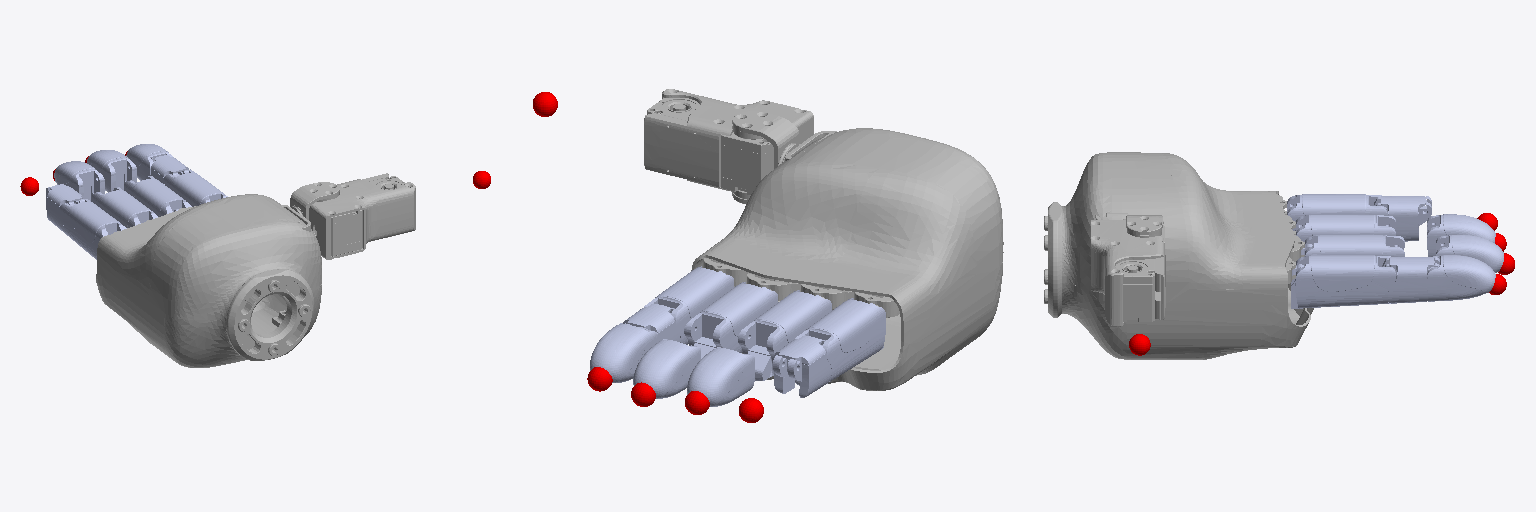
The robot description file, URDF, robot "Dex5-URDF-R":
<robot name="Dex5-URDF-R">
  <!-- Local deviations from the official unitreerobotics/unitree_ros Dex5-1 URDF:
       1. (left)  joint "Link_41L" renamed to "Roll_41L" - upstream collided with the
          link of the same name and broke the Roll_x1 convention used by every other finger.
       2. (right) link "base_link00" renamed to "base_link00R" for L/R symmetry.
       3. Added fixed *_tip frames on each distal link (offsets measured from the STL
          meshes). Retargeting optimizes a named link's frame ORIGIN, and each Link_x4
          origin sits on its own joint axis, i.e. at the last knuckle rather than the
          fingertip. Mirrors the convention already used by the Dex3-1 URDF. -->
  <mujoco>
    <compiler meshdir="meshes" discardvisual="false"/>
  </mujoco>
  <link name="base_link00R">
    <inertial>
      <origin xyz="-0.023027 0.027982 -0.017178" rpy="0 0 0"/>
      <mass value="0.685702"/>
      <inertia ixx="7.78969326E-04" ixy="-3.3932999E-05" ixz="-8.537493E-06" iyy="6.11017846E-04" iyz="5.5013726E-05" izz="1.061484896E-03"/>
    </inertial>
    <visual>
      <origin xyz="0 0 0" rpy="0 0 0"/>
      <geometry>
        <mesh filename="meshes/base_link00.STL"/>
      </geometry>
      <material name="">
        <color rgba="0.752941176470588 0.752941176470588 0.752941176470588 0.7"/>
      </material>
    </visual>
    <collision>
      <origin xyz="0 0 0" rpy="0 0 0"/>
      <geometry>
        <mesh filename="meshes/base_link00.STL"/>
      </geometry>
    </collision>
  </link>
  <link name="Link_11R">
    <inertial>
      <origin xyz="-0.008418 0.000123 -0.003247" rpy="0 0 0"/>
      <mass value="0.02363"/>
      <inertia ixx="2.641049E-06" ixy="1.9442E-08" ixz="1.8132E-07" iyy="3.607134E-06" iyz="5.837E-09" izz="3.860781E-06"/>
    </inertial>
    <visual>
      <origin xyz="0 0 0" rpy="0 0 0"/>
      <geometry>
        <mesh filename="meshes/Link_11R.STL"/>
      </geometry>
      <material name="">
        <color rgba="0.752941176470588 0.752941176470588 0.752941176470588 1"/>
      </material>
    </visual>
    <collision>
      <origin xyz="0 0 0" rpy="0 0 0"/>
      <geometry>
        <mesh filename="meshes/Link_11R.STL"/>
      </geometry>
    </collision>
  </link>
  <joint name="Yaw_11R" type="revolute">
    <origin xyz="0 0 0.0143500000000242" rpy="0 0 0"/>
    <parent link="base_link00R"/>
    <child link="Link_11R"/>
    <axis xyz="0 0 1"/>
    <limit lower="-0.5867" upper="0.6803" effort="0.93" velocity="4.18"/>
  </joint>
  <link name="Link_12R">
    <inertial>
      <origin xyz="0.014668 0.000013 -0.004099" rpy="0 0 0"/>
      <mass value="0.015809"/>
      <inertia ixx="3.066476E-06" ixy="-4.497E-9" ixz="2.22721E-7" iyy="4.049699E-06" iyz="1.404E-9" izz="3.627081E-06"/>
    </inertial>
    <visual>
      <origin xyz="0 0 0" rpy="0 0 0"/>
      <geometry>
        <mesh filename="meshes/Link_12R.STL"/>
      </geometry>
      <material name="">
        <color rgba="0.752941176470588 0.752941176470588 0.752941176470588 1"/>
      </material>
    </visual>
    <collision>
      <origin xyz="0 0 0" rpy="0 0 0"/>
      <geometry>
        <mesh filename="meshes/Link_12R.STL"/>
      </geometry>
    </collision>
  </link>
  <joint name="Roll_12R" type="revolute">
    <origin xyz="-1.06041019916053E-05 0 0" rpy="1.5707963267949 0 0"/>
    <parent link="Link_11R"/>
    <child link="Link_12R"/>
    <axis xyz="0 0 1"/>
    <limit lower="0" upper="1.8151" effort="0.93" velocity="4.18"/>
  </joint>
  <link name="Link_13R">
    <inertial>
      <origin xyz="0.018557 -0.006933 0.000159" rpy="0 0 0"/>
      <mass value="0.06674"/>
      <inertia ixx="9.105565E-06" ixy="-1.948696E-06" ixz="2.9291E-08" iyy="2.2925394E-05" iyz="-0.816E-09" izz="2.3878954E-05"/>
    </inertial>
    <visual>
      <origin xyz="0 0 0" rpy="0 0 0"/>
      <geometry>
        <mesh filename="meshes/Link_13R.STL"/>
      </geometry>
      <material name="">
        <color rgba="0.752941176470588 0.752941176470588 0.752941176470588 1"/>
      </material>
    </visual>
    <collision>
      <origin xyz="0 0 0" rpy="0 0 0"/>
      <geometry>
        <mesh filename="meshes/Link_13R.STL"/>
      </geometry>
    </collision>
  </link>
  <joint name="Pitch_13R" type="revolute">
    <origin xyz="0.0335000000000025 0 -0.00599999999999658" rpy="-1.57079632688918 -1.55083872381532E-05 0"/>
    <parent link="Link_12R"/>
    <child link="Link_13R"/>
    <axis xyz="0 0 1"/>
    <limit lower="0" upper="1.765226" effort="0.93" velocity="4.18"/>
  </joint>
  <link name="Link_14R">
    <inertial>
      <origin xyz="0.028085 0.003322 0.000472" rpy="0 0 0"/>
      <mass value="0.020073"/>
      <inertia ixx="1.93782E-06" ixy="-1.69818E-07" ixz="1.24848E-07" iyy="6.083181E-06" iyz="2.0791E-08" izz="5.614839E-06"/>
    </inertial>
    <visual>
      <origin xyz="0 0 0" rpy="0 0 0"/>
      <geometry>
        <mesh filename="meshes/Link_14R.STL"/>
      </geometry>
      <material name="">
        <color rgba="0.752941176470588 0.752941176470588 0.752941176470588 1"/>
      </material>
    </visual>
    <collision>
      <origin xyz="0 0 0" rpy="0 0 0"/>
      <geometry>
        <mesh filename="meshes/Link_14R.STL"/>
      </geometry>
    </collision>
  </link>
  <joint name="Pitch_14R" type="revolute">
    <origin xyz="0.036609 -0.0053654 0" rpy="0 0 0"/>
    <parent link="Link_13R"/>
    <child link="Link_14R"/>
    <axis xyz="0 0 1"/>
    <limit lower="0" upper="1.6406" effort="0.93" velocity="4.18"/>
  </joint>
  <link name="Link_21R">
    <inertial>
      <origin xyz="0.007826 -0.000005 -0.004125" rpy="0 0 0"/>
      <mass value="0.004497"/>
      <inertia ixx="8.9889E-08" ixy="-4.9E-11" ixz="3.7079E-08" iyy="1.37514E-07" iyz="-1.18E-10" izz="9.6125E-08"/>
    </inertial>
    <visual>
      <origin xyz="0 0 0" rpy="0 0 0"/>
      <geometry>
        <mesh filename="meshes/Link_21R.STL"/>
      </geometry>
      <material name="">
        <color rgba="0.792156862745098 0.819607843137255 0.933333333333333 1"/>
      </material>
    </visual>
    <collision>
      <origin xyz="0 0 0" rpy="0 0 0"/>
      <geometry>
        <mesh filename="meshes/Link_21R.STL"/>
      </geometry>
    </collision>
  </link>
  <joint name="Roll_21R" type="revolute">
    <origin xyz="0.01 0.073143 -0.0034702" rpy="0 0 1.5708"/>
    <parent link="base_link00R"/>
    <child link="Link_21R"/>
    <axis xyz="0 0 1"/>
    <limit lower="-0.38397" upper="0.38397" effort="0" velocity="0.76794"/>
  </joint>
  <link name="Link_22R">
    <inertial>
      <origin xyz="0.021242 -0.005936 0.000059" rpy="0 0 0"/>
      <mass value="0.017982"/>
      <inertia ixx="1.206794E-06" ixy="-1.30843E-07" ixz="-2.335E-09" iyy="4.081109E-06" iyz="1.219E-09" izz="4.370124E-06"/>
    </inertial>
    <visual>
      <origin xyz="0 0 0" rpy="0 0 0"/>
      <geometry>
        <mesh filename="meshes/Link_22R.STL"/>
      </geometry>
      <material name="">
        <color rgba="0.792156862745098 0.819607843137255 0.933333333333333 1"/>
      </material>
    </visual>
    <collision>
      <origin xyz="0 0 0" rpy="0 0 0"/>
      <geometry>
        <mesh filename="meshes/Link_22R.STL"/>
      </geometry>
    </collision>
  </link>
  <joint name="Pitch_22R" type="revolute">
    <origin xyz="0.00419999999999998 0 0" rpy="1.5707963267949 0 0"/>
    <parent link="Link_21R"/>
    <child link="Link_22R"/>
    <axis xyz="0 0 1"/>
    <limit lower="0" upper="1.5707963" effort="0" velocity="3.1415926"/>
  </joint>
  <link name="Link_23R">
    <inertial>
      <origin xyz="0.011393 -0.005777 0.000001" rpy="0 0 0"/>
      <mass value="0.012776"/>
      <inertia ixx="6.38115E-07" ixy="5.5121E-08" ixz="-4.97E-10" iyy="6.31505E-07" iyz="-1.43E-10" izz="8.2943E-07"/>
    </inertial>
    <visual>
      <origin xyz="0 0 0" rpy="0 0 0"/>
      <geometry>
        <mesh filename="meshes/Link_23R.STL"/>
      </geometry>
      <material name="">
        <color rgba="0.792156862745098 0.819607843137255 0.933333333333333 1"/>
      </material>
    </visual>
    <collision>
      <origin xyz="0 0 0" rpy="0 0 0"/>
      <geometry>
        <mesh filename="meshes/Link_23R.STL"/>
      </geometry>
    </collision>
  </link>
  <joint name="Pitch_23R" type="revolute">
    <origin xyz="0.039999999999998 0 0" rpy="0 0 0"/>
    <parent link="Link_22R"/>
    <child link="Link_23R"/>
    <axis xyz="0 0 1"/>
    <limit lower="0" upper="1.684242699" effort="0" velocity="3.368485398"/>
  </joint>
  <link name="Link_24R">
    <inertial>
      <origin xyz="0.009354 -0.004824 0.000072" rpy="0 0 0"/>
      <mass value="0.00639891165893413"/>
      <inertia ixx="4.9531E-07" ixy="-1.09285E-07" ixz="8.84E-10" iyy="1.466772E-06" iyz="4.47E-10" izz="1.448234E-06"/>
    </inertial>
    <visual>
      <origin xyz="0 0 0" rpy="0 0 0"/>
      <geometry>
        <mesh filename="meshes/Link_24R.STL"/>
      </geometry>
      <material name="">
        <color rgba="0.792156862745098 0.819607843137255 0.933333333333333 1"/>
      </material>
    </visual>
    <collision>
      <origin xyz="0 0 0" rpy="0 0 0"/>
      <geometry>
        <mesh filename="meshes/Link_24R.STL"/>
      </geometry>
    </collision>
  </link>
  <joint name="Pitch_24R" type="revolute">
    <origin xyz="0.0209845918681 0.000804303505750905 0" rpy="0 0 0"/>
    <parent link="Link_23R"/>
    <child link="Link_24R"/>
    <axis xyz="0 0 1"/>
    <limit lower="0" upper="1.396263378" effort="0" velocity="2.792526756"/>
  </joint>
  <link name="Link_31R">
    <inertial>
      <origin xyz="0.007826 -0.000005 -0.004125" rpy="0 0 0"/>
      <mass value="0.004497"/>
      <inertia ixx="8.9889E-08" ixy="-4.9E-11" ixz="3.7079E-08" iyy="1.37514E-07" iyz="-1.18E-10" izz="9.6125E-08"/>
    </inertial>
    <visual>
      <origin xyz="0 0 0" rpy="0 0 0"/>
      <geometry>
        <mesh filename="meshes/Link_31R.STL"/>
      </geometry>
      <material name="">
        <color rgba="0.792156862745098 0.819607843137255 0.933333333333333 1"/>
      </material>
    </visual>
    <collision>
      <origin xyz="0 0 0" rpy="0 0 0"/>
      <geometry>
        <mesh filename="meshes/Link_31R.STL"/>
      </geometry>
    </collision>
  </link>
  <joint name="Roll_31R" type="revolute">
    <origin xyz="-0.012 0.077143 -0.0034702" rpy="0 0 1.5708"/>
    <parent link="base_link00R"/>
    <child link="Link_31R"/>
    <axis xyz="0 0 1"/>
    <limit lower="-0.38397" upper="0.38397" effort="0" velocity="0.76794"/>
  </joint>
  <link name="Link_32R">
    <inertial>
      <origin xyz="0.021242 -0.005936 0.000059" rpy="0 0 0"/>
      <mass value="0.017982"/>
      <inertia ixx="1.206794E-06" ixy="-1.30843E-07" ixz="-2.335E-09" iyy="4.081109E-06" iyz="1.219E-09" izz="4.370124E-06"/>
    </inertial>
    <visual>
      <origin xyz="0 0 0" rpy="0 0 0"/>
      <geometry>
        <mesh filename="meshes/Link_32R.STL"/>
      </geometry>
      <material name="">
        <color rgba="0.792156862745098 0.819607843137255 0.933333333333333 1"/>
      </material>
    </visual>
    <collision>
      <origin xyz="0 0 0" rpy="0 0 0"/>
      <geometry>
        <mesh filename="meshes/Link_32R.STL"/>
      </geometry>
    </collision>
  </link>
  <joint name="Pitch_32R" type="revolute">
    <origin xyz="0.00419999999999998 0 0" rpy="1.5707963267949 0 0"/>
    <parent link="Link_31R"/>
    <child link="Link_32R"/>
    <axis xyz="0 0 1"/>
    <limit lower="0" upper="1.5707963" effort="0" velocity="3.1415926"/>
  </joint>
  <link name="Link_33R">
    <inertial>
      <origin xyz="0.011393 -0.005777 0.000001" rpy="0 0 0"/>
      <mass value="0.012776"/>
      <inertia ixx="6.38115E-07" ixy="5.5121E-08" ixz="-4.97E-10" iyy="6.31505E-07" iyz="-1.43E-10" izz="8.2943E-07"/>
    </inertial>
    <visual>
      <origin xyz="0 0 0" rpy="0 0 0"/>
      <geometry>
        <mesh filename="meshes/Link_33R.STL"/>
      </geometry>
      <material name="">
        <color rgba="0.792156862745098 0.819607843137255 0.933333333333333 1"/>
      </material>
    </visual>
    <collision>
      <origin xyz="0 0 0" rpy="0 0 0"/>
      <geometry>
        <mesh filename="meshes/Link_33R.STL"/>
      </geometry>
    </collision>
  </link>
  <joint name="Pitch_33R" type="revolute">
    <origin xyz="0.039999999999998 0 0" rpy="0 0 0"/>
    <parent link="Link_32R"/>
    <child link="Link_33R"/>
    <axis xyz="0 0 1"/>
    <limit lower="0" upper="1.684242699" effort="0" velocity="3.368485398"/>
  </joint>
  <link name="Link_34R">
    <inertial>
      <origin xyz="0.009354 -0.004824 0.000072" rpy="0 0 0"/>
      <mass value="0.00639891165893413"/>
      <inertia ixx="4.9531E-07" ixy="-1.09285E-07" ixz="8.84E-10" iyy="1.466772E-06" iyz="4.47E-10" izz="1.448234E-06"/>
    </inertial>
    <visual>
      <origin xyz="0 0 0" rpy="0 0 0"/>
      <geometry>
        <mesh filename="meshes/Link_34R.STL"/>
      </geometry>
      <material name="">
        <color rgba="0.792156862745098 0.819607843137255 0.933333333333333 1"/>
      </material>
    </visual>
    <collision>
      <origin xyz="0 0 0" rpy="0 0 0"/>
      <geometry>
        <mesh filename="meshes/Link_34R.STL"/>
      </geometry>
    </collision>
  </link>
  <joint name="Pitch_34R" type="revolute">
    <origin xyz="0.0209845918681 0.000804303505750906 0" rpy="0 0 0"/>
    <parent link="Link_33R"/>
    <child link="Link_34R"/>
    <axis xyz="0 0 1"/>
    <limit lower="0" upper="1.396263378" effort="0" velocity="2.792526756"/>
  </joint>
  <link name="Link_41R">
    <inertial>
      <origin xyz="0.007826 -0.000005 -0.004125" rpy="0 0 0"/>
      <mass value="0.004497"/>
      <inertia ixx="8.9889E-08" ixy="-4.9E-11" ixz="3.7079E-08" iyy="1.37514E-07" iyz="-1.18E-10" izz="9.6125E-08"/>
    </inertial>
    <visual>
      <origin xyz="0 0 0" rpy="0 0 0"/>
      <geometry>
        <mesh filename="meshes/Link_41R.STL"/>
      </geometry>
      <material name="">
        <color rgba="0.792156862745098 0.819607843137255 0.933333333333333 1"/>
      </material>
    </visual>
    <collision>
      <origin xyz="0 0 0" rpy="0 0 0"/>
      <geometry>
        <mesh filename="meshes/Link_41R.STL"/>
      </geometry>
    </collision>
  </link>
  <joint name="Roll_41R" type="revolute">
    <origin xyz="-0.034 0.073143 -0.0034702" rpy="0 0 1.5708"/>
    <parent link="base_link00R"/>
    <child link="Link_41R"/>
    <axis xyz="0 0 1"/>
    <limit lower="-0.38397" upper="0.38397" effort="0" velocity="0"/>
  </joint>
  <link name="Link_42R">
    <inertial>
      <origin xyz="0.021242 -0.005936 0.000059" rpy="0 0 0"/>
      <mass value="0.017982"/>
      <inertia ixx="1.206794E-06" ixy="-1.30843E-07" ixz="-2.335E-09" iyy="4.081109E-06" iyz="1.219E-09" izz="4.370124E-06"/>
    </inertial>
    <visual>
      <origin xyz="0 0 0" rpy="0 0 0"/>
      <geometry>
        <mesh filename="meshes/Link_42R.STL"/>
      </geometry>
      <material name="">
        <color rgba="0.792156862745098 0.819607843137255 0.933333333333333 1"/>
      </material>
    </visual>
    <collision>
      <origin xyz="0 0 0" rpy="0 0 0"/>
      <geometry>
        <mesh filename="meshes/Link_42R.STL"/>
      </geometry>
    </collision>
  </link>
  <joint name="Pitch_42R" type="revolute">
    <origin xyz="0.00419999999999998 0 0" rpy="1.5707963267949 0 0"/>
    <parent link="Link_41R"/>
    <child link="Link_42R"/>
    <axis xyz="0 0 1"/>
    <limit lower="0" upper="1.5708" effort="0" velocity="3.1415926"/>
  </joint>
  <link name="Link_43R">
    <inertial>
      <origin xyz="0.011393 -0.005777 0.000001" rpy="0 0 0"/>
      <mass value="0.012776"/>
      <inertia ixx="6.38115E-07" ixy="5.5121E-08" ixz="-4.97E-10" iyy="6.31505E-07" iyz="-1.43E-10" izz="8.2943E-07"/>
    </inertial>
    <visual>
      <origin xyz="0 0 0" rpy="0 0 0"/>
      <geometry>
        <mesh filename="meshes/Link_43R.STL"/>
      </geometry>
      <material name="">
        <color rgba="0.792156862745098 0.819607843137255 0.933333333333333 1"/>
      </material>
    </visual>
    <collision>
      <origin xyz="0 0 0" rpy="0 0 0"/>
      <geometry>
        <mesh filename="meshes/Link_43R.STL"/>
      </geometry>
    </collision>
  </link>
  <joint name="Pitch_43R" type="revolute">
    <origin xyz="0.039999999999998 0 0" rpy="0 0 0"/>
    <parent link="Link_42R"/>
    <child link="Link_43R"/>
    <axis xyz="0 0 1"/>
    <limit lower="0" upper="1.6842" effort="0" velocity="3.368485398"/>
  </joint>
  <link name="Link_44R">
    <inertial>
      <origin xyz="0.009354 -0.004824 0.000072" rpy="0 0 0"/>
      <mass value="0.00639891165893413"/>
      <inertia ixx="4.9531E-07" ixy="-1.09285E-07" ixz="8.84E-10" iyy="1.466772E-06" iyz="4.47E-10" izz="1.448234E-06"/>
    </inertial>
    <visual>
      <origin xyz="0 0 0" rpy="0 0 0"/>
      <geometry>
        <mesh filename="meshes/Link_44R.STL"/>
      </geometry>
      <material name="">
        <color rgba="0.792156862745098 0.819607843137255 0.933333333333333 1"/>
      </material>
    </visual>
    <collision>
      <origin xyz="0 0 0" rpy="0 0 0"/>
      <geometry>
        <mesh filename="meshes/Link_44R.STL"/>
      </geometry>
    </collision>
  </link>
  <joint name="Pitch_44R" type="revolute">
    <origin xyz="0.0209845918681 0.000804303505750905 0" rpy="0 0 0"/>
    <parent link="Link_43R"/>
    <child link="Link_44R"/>
    <axis xyz="0 0 1"/>
    <limit lower="0" upper="1.3963" effort="0" velocity="2.7925"/>
  </joint>
  <link name="Link_51R">
    <inertial>
      <origin xyz="0.007826 -0.000005 -0.004125" rpy="0 0 0"/>
      <mass value="0.004497"/>
      <inertia ixx="8.9889E-08" ixy="-4.9E-11" ixz="3.7079E-08" iyy="1.37514E-07" iyz="-1.18E-10" izz="9.6125E-08"/>
    </inertial>
    <visual>
      <origin xyz="0 0 0" rpy="0 0 0"/>
      <geometry>
        <mesh filename="meshes/Link_51R.STL"/>
      </geometry>
      <material name="">
        <color rgba="0.792156862745098 0.819607843137255 0.933333333333333 1"/>
      </material>
    </visual>
    <collision>
      <origin xyz="0 0 0" rpy="0 0 0"/>
      <geometry>
        <mesh filename="meshes/Link_51R.STL"/>
      </geometry>
    </collision>
  </link>
  <joint name="Roll_51R" type="revolute">
    <origin xyz="-0.0559999999999967 0.0691433586578331 -0.00347021644327154" rpy="0 0 1.57079632679486"/>
    <parent link="base_link00R"/>
    <child link="Link_51R"/>
    <axis xyz="0 0 1"/>
    <limit lower="-0.38397" upper="0.38397" effort="0" velocity="0"/>
  </joint>
  <link name="Link_52R">
    <inertial>
      <origin xyz="0.021242 -0.005936 0.000059" rpy="0 0 0"/>
      <mass value="0.017982"/>
      <inertia ixx="1.206794E-06" ixy="-1.30843E-07" ixz="-2.335E-09" iyy="4.081109E-06" iyz="1.219E-09" izz="4.370124E-06"/>
    </inertial>
    <visual>
      <origin xyz="0 0 0" rpy="0 0 0"/>
      <geometry>
        <mesh filename="meshes/Link_52R.STL"/>
      </geometry>
      <material name="">
        <color rgba="0.792156862745098 0.819607843137255 0.933333333333333 1"/>
      </material>
    </visual>
    <collision>
      <origin xyz="0 0 0" rpy="0 0 0"/>
      <geometry>
        <mesh filename="meshes/Link_52R.STL"/>
      </geometry>
    </collision>
  </link>
  <joint name="Pitch_52R" type="revolute">
    <origin xyz="0.00419999999999998 0 0" rpy="1.5707963267949 0 0"/>
    <parent link="Link_51R"/>
    <child link="Link_52R"/>
    <axis xyz="0 0 1"/>
    <limit lower="0" upper="1.5708" effort="0" velocity="3.1416"/>
  </joint>
  <link name="Link_53R">
    <inertial>
      <origin xyz="0.011393 -0.005777 0.000001" rpy="0 0 0"/>
      <mass value="0.012776"/>
      <inertia ixx="6.38115E-07" ixy="5.5121E-08" ixz="-4.97E-10" iyy="6.31505E-07" iyz="-1.43E-10" izz="8.2943E-07"/>
    </inertial>
    <visual>
      <origin xyz="0 0 0" rpy="0 0 0"/>
      <geometry>
        <mesh filename="meshes/Link_53R.STL"/>
      </geometry>
      <material name="">
        <color rgba="0.792156862745098 0.819607843137255 0.933333333333333 1"/>
      </material>
    </visual>
    <collision>
      <origin xyz="0 0 0" rpy="0 0 0"/>
      <geometry>
        <mesh filename="meshes/Link_53R.STL"/>
      </geometry>
    </collision>
  </link>
  <joint name="Pitch_53R" type="revolute">
    <origin xyz="0.039999999999998 0 0" rpy="0 0 0"/>
    <parent link="Link_52R"/>
    <child link="Link_53R"/>
    <axis xyz="0 0 1"/>
    <limit lower="0" upper="1.6842" effort="0" velocity="3.3685"/>
  </joint>
  <link name="Link_54R">
    <inertial>
      <origin xyz="0.009354 -0.004824 0.000072" rpy="0 0 0"/>
      <mass value="0.00639891165893413"/>
      <inertia ixx="4.9531E-07" ixy="-1.09285E-07" ixz="8.84E-10" iyy="1.466772E-06" iyz="4.47E-10" izz="1.448234E-06"/>
    </inertial>
    <visual>
      <origin xyz="0 0 0" rpy="0 0 0"/>
      <geometry>
        <mesh filename="meshes/Link_54R.STL"/>
      </geometry>
      <material name="">
        <color rgba="0.792156862745098 0.819607843137255 0.933333333333333 1"/>
      </material>
    </visual>
    <collision>
      <origin xyz="0 0 0" rpy="0 0 0"/>
      <geometry>
        <mesh filename="meshes/Link_54R.STL"/>
      </geometry>
    </collision>
  </link>
  <joint name="Pitch_54R" type="revolute">
    <origin xyz="0.0209845918681 0.000804303505750905 0" rpy="0 0 0"/>
    <parent link="Link_53R"/>
    <child link="Link_54R"/>
    <axis xyz="0 0 1"/>
    <limit lower="0" upper="1.3963" effort="0" velocity="2.7925"/>
  </joint>
  <link name="thumb_tipR">
    <visual>
      <origin xyz="0 0 0" rpy="0 0 0" />
      <geometry>
        <sphere radius="0.005" />
      </geometry>
      <material name="red">
        <color rgba="1 0 0 1" />
      </material>
    </visual>
  </link>
  <joint name="thumb_tip_jointR" type="fixed">
    <origin xyz="0.0588 0.0032 0.0" rpy="0 0 0" />
    <parent link="Link_14R" />
    <child link="thumb_tipR" />
  </joint>
  <link name="index_tipR">
    <visual>
      <origin xyz="0 0 0" rpy="0 0 0" />
      <geometry>
        <sphere radius="0.005" />
      </geometry>
      <material name="red">
        <color rgba="1 0 0 1" />
      </material>
    </visual>
  </link>
  <joint name="index_tip_jointR" type="fixed">
    <origin xyz="0.0284 -0.008 0.0" rpy="0 0 0" />
    <parent link="Link_24R" />
    <child link="index_tipR" />
  </joint>
  <link name="middle_tipR">
    <visual>
      <origin xyz="0 0 0" rpy="0 0 0" />
      <geometry>
        <sphere radius="0.005" />
      </geometry>
      <material name="red">
        <color rgba="1 0 0 1" />
      </material>
    </visual>
  </link>
  <joint name="middle_tip_jointR" type="fixed">
    <origin xyz="0.0284 -0.008 0.0" rpy="0 0 0" />
    <parent link="Link_34R" />
    <child link="middle_tipR" />
  </joint>
  <link name="ring_tipR">
    <visual>
      <origin xyz="0 0 0" rpy="0 0 0" />
      <geometry>
        <sphere radius="0.005" />
      </geometry>
      <material name="red">
        <color rgba="1 0 0 1" />
      </material>
    </visual>
  </link>
  <joint name="ring_tip_jointR" type="fixed">
    <origin xyz="0.0284 -0.008 0.0" rpy="0 0 0" />
    <parent link="Link_44R" />
    <child link="ring_tipR" />
  </joint>
  <link name="pinky_tipR">
    <visual>
      <origin xyz="0 0 0" rpy="0 0 0" />
      <geometry>
        <sphere radius="0.005" />
      </geometry>
      <material name="red">
        <color rgba="1 0 0 1" />
      </material>
    </visual>
  </link>
  <joint name="pinky_tip_jointR" type="fixed">
    <origin xyz="0.0284 -0.008 0.0" rpy="0 0 0" />
    <parent link="Link_54R" />
    <child link="pinky_tipR" />
  </joint>
</robot>

--- What the picture shows (computed from the rendered views, not written in the file) ---
The picture shows the robot from 3 angles, left to right: view 1: azimuth 30°, elevation 25°; view 2: azimuth 150°, elevation 25°; view 3: azimuth 270°, elevation 25°; orthographic projection.
Robot: Dex5-URDF-R — 26 links, 25 joints (20 revolute, 5 fixed); root link base_link00R; default pose: all joints at 0.
Links seen in each view (by area): view 1: base_link00R, Link_13R, Link_52R, Link_32R, Link_42R, Link_34R, Link_44R, Link_22R, Link_12R, Link_53R, Link_24R, Link_23R; view 2: base_link00R, Link_13R, Link_52R, Link_42R, Link_32R, Link_44R, Link_53R, Link_34R, Link_22R, Link_24R, Link_12R, Link_23R; view 3: base_link00R, Link_13R, Link_22R, Link_24R, Link_42R, Link_52R, Link_32R, Link_23R, Link_53R, Link_34R, Link_44R, Link_12R.
Link boxes in pixels (x1,y1,x2,y2): base_link00R: (96, 194, 321, 367); Link_13R: (309, 173, 415, 259); Link_52R: (60, 199, 126, 259); Link_32R: (124, 176, 191, 216); Link_42R: (92, 187, 157, 227); Link_34R: (87, 150, 136, 192); Link_44R: (54, 161, 104, 201); Link_22R: (164, 169, 227, 206); Link_12R: (281, 182, 339, 231); Link_53R: (46, 184, 84, 232); Link_24R: (126, 144, 172, 180); Link_23R: (151, 155, 188, 184); base_link00R: (691, 128, 1003, 390); Link_13R: (644, 89, 813, 199); Link_52R: (795, 298, 885, 385); Link_42R: (738, 290, 831, 380); Link_32R: (684, 282, 777, 358); Link_44R: (687, 347, 754, 406); Link_53R: (773, 335, 831, 397); Link_34R: (633, 339, 700, 398); Link_22R: (644, 266, 733, 344); Link_24R: (590, 323, 657, 382); Link_12R: (732, 111, 836, 203); Link_23R: (623, 303, 680, 341); base_link00R: (1044, 152, 1313, 359); Link_13R: (1091, 219, 1165, 326); Link_22R: (1291, 255, 1396, 308); Link_24R: (1427, 255, 1495, 301); Link_42R: (1295, 215, 1395, 241); Link_52R: (1287, 194, 1387, 230); Link_32R: (1305, 235, 1404, 256); Link_23R: (1382, 257, 1439, 303); Link_53R: (1374, 196, 1431, 241); Link_34R: (1436, 235, 1503, 272); Link_44R: (1427, 214, 1495, 256); Link_12R: (1095, 215, 1163, 234).
Size in the robot's own frame: 0.2039 by 0.2155 by 0.0809 metres.
15 mesh visuals loaded from 21 distinct referenced files (15 binary STL); not drawn: 6 (reference not matched to a file when rendering).
